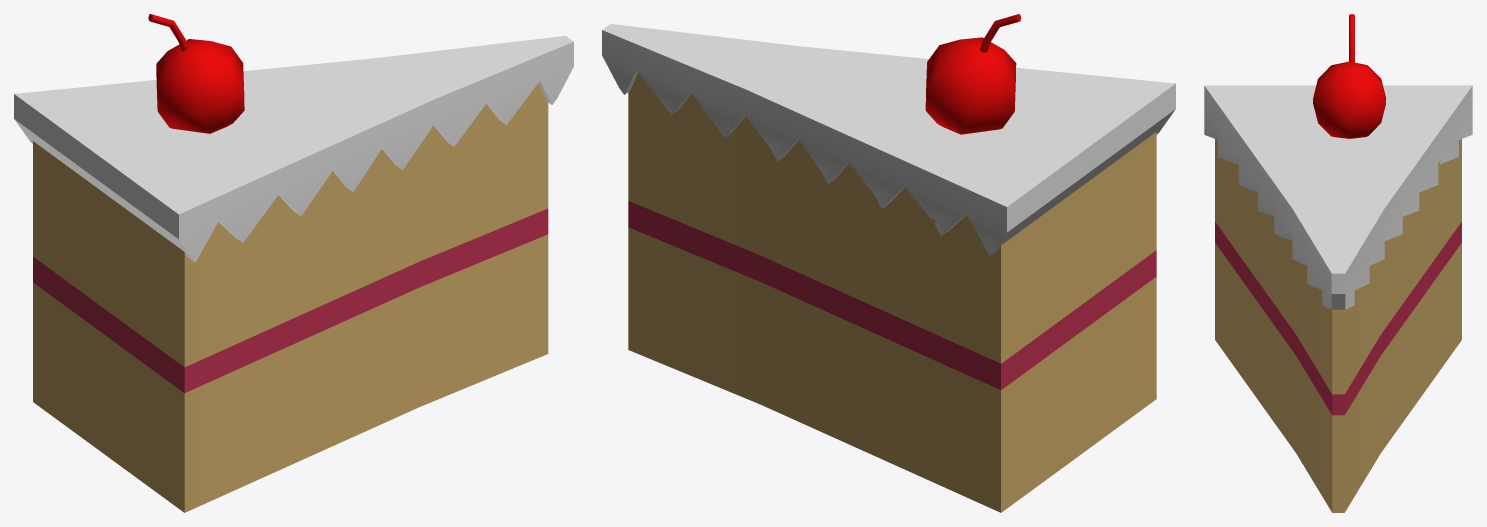
Rendered from Cake.fbx.
3 renders of one model, left to right at view 1: azimuth 30°, elevation 25°; view 2: azimuth 150°, elevation 25°; view 3: azimuth 270°, elevation 25°, orthographic. The views are drawn at different scales.
Visible parts, largest first — view 1: cake; view 2: cake; view 3: cake.
Part boxes in pixels (left/top/right/bottom): cake: left=14, top=14, right=573, bottom=512; cake: left=602, top=14, right=1175, bottom=512; cake: left=1204, top=14, right=1472, bottom=512.
Size of the model in its own units: 22.38 by 19.19 by 13.5.
